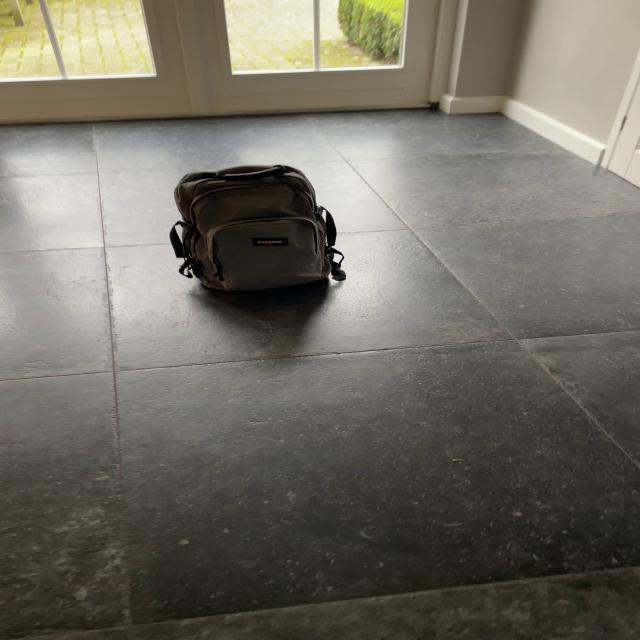backpack: (161, 157, 346, 297)
